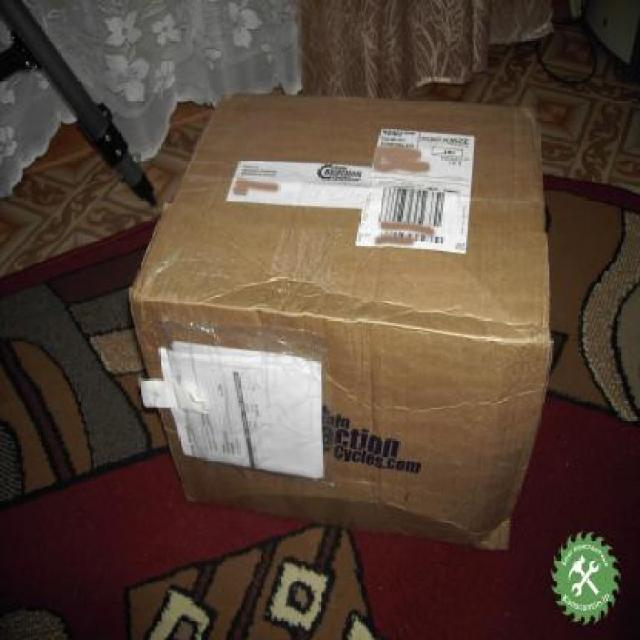box: (128, 72, 566, 556)
